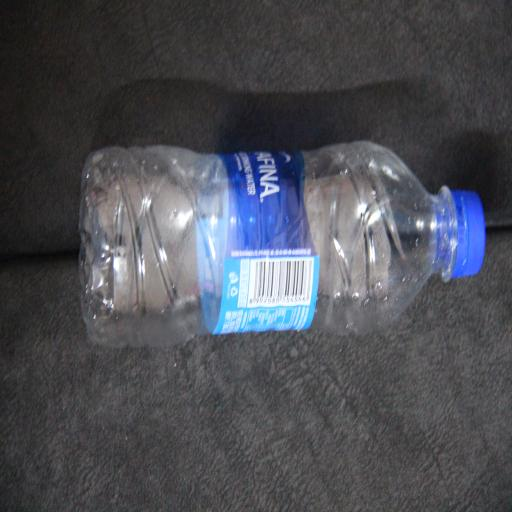Aquafina: (70, 13, 261, 512)
